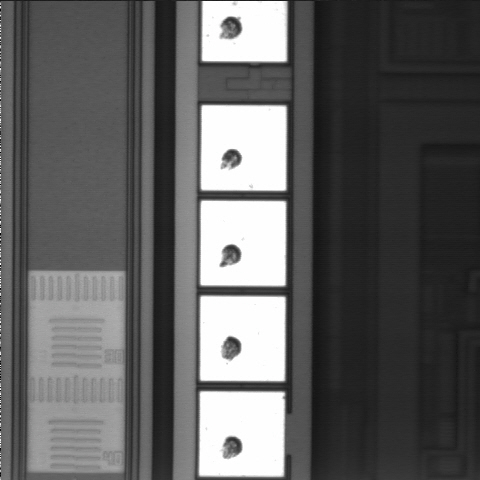pad: (199, 391, 285, 477), (201, 105, 286, 191), (200, 201, 286, 286), (200, 296, 285, 381)
